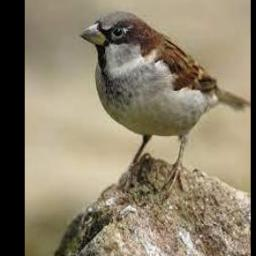Sparrow: (79, 12, 251, 193)
